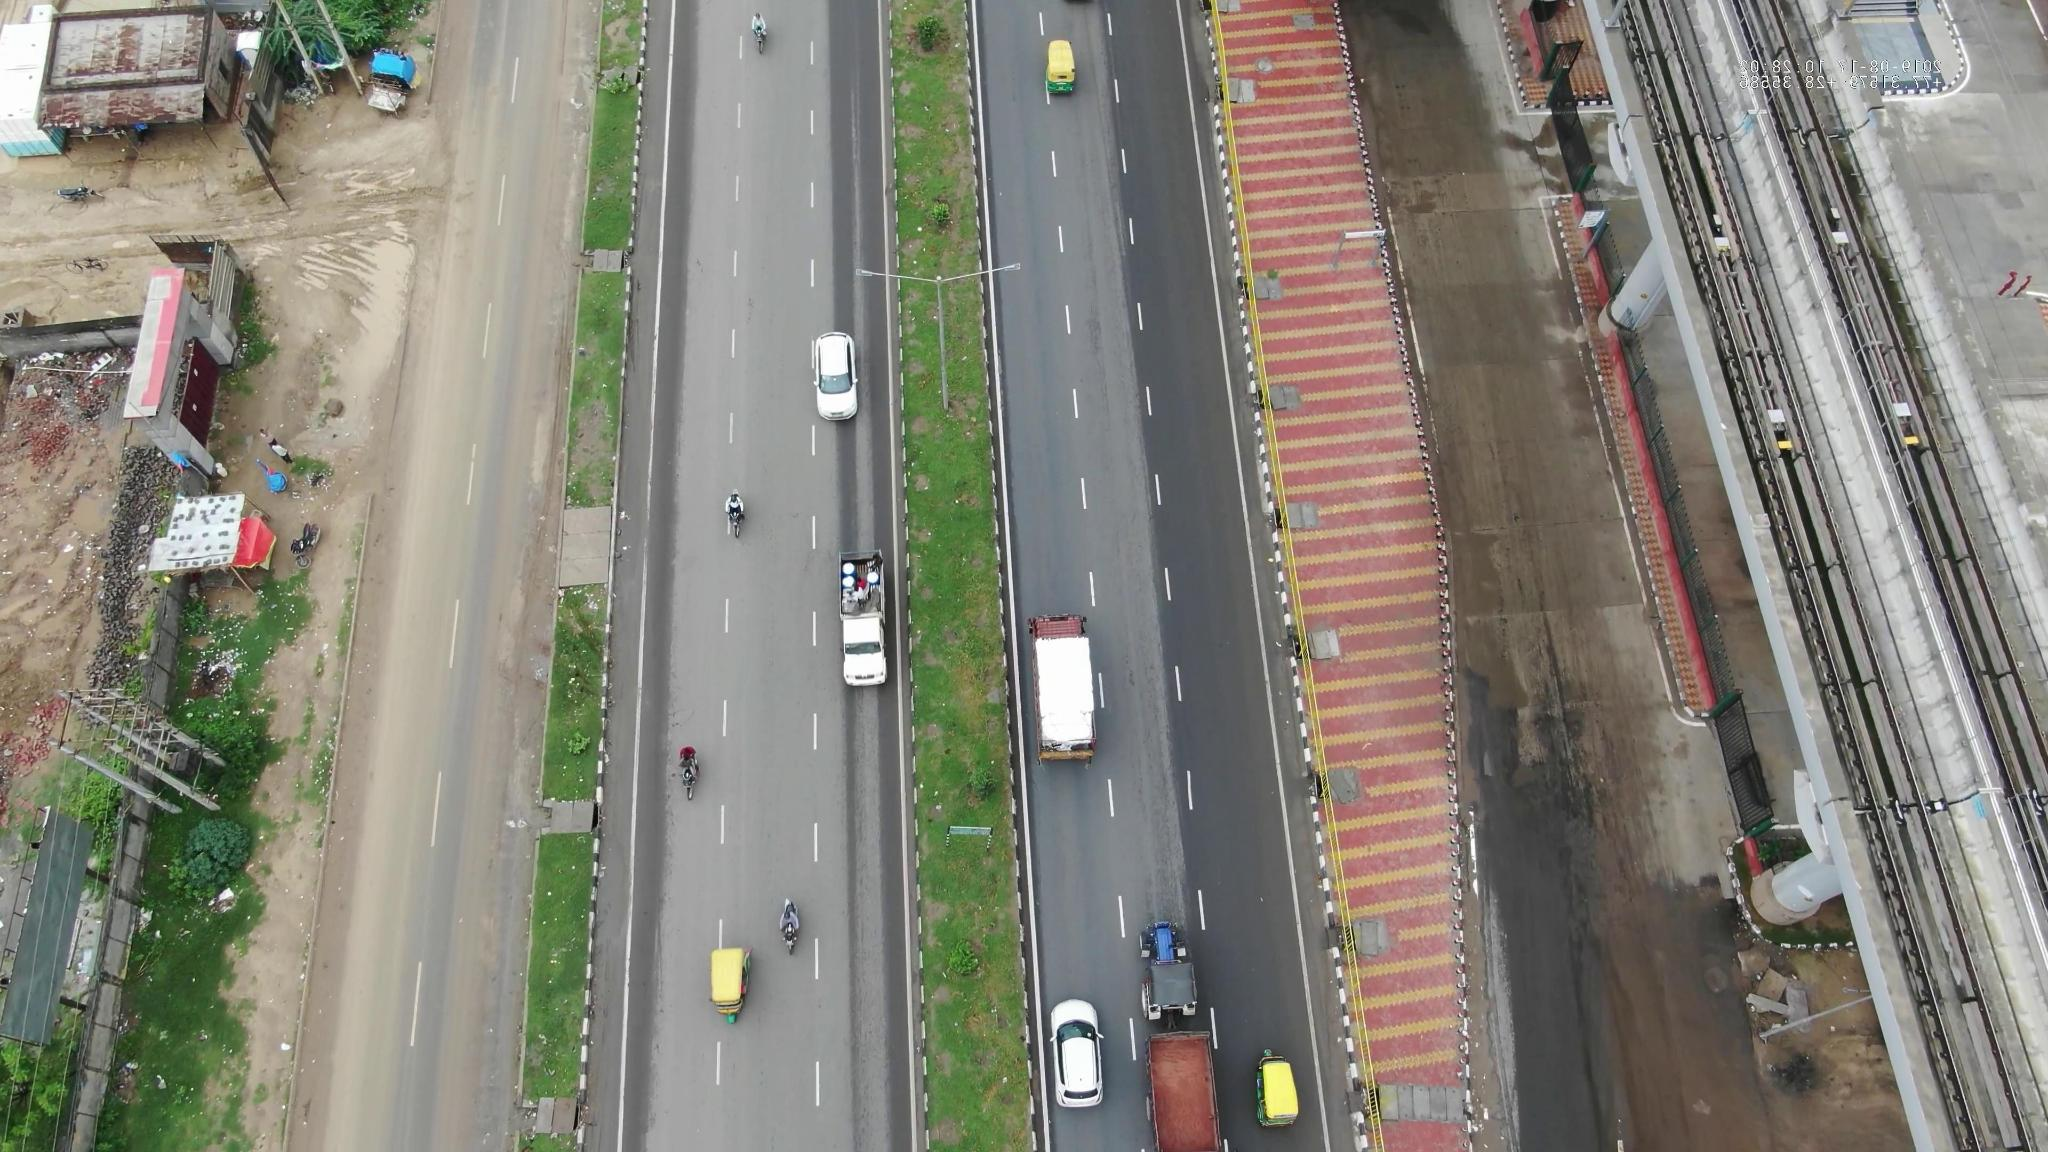Muddy_road: (376, 243, 494, 640), (314, 698, 415, 1104), (466, 392, 563, 727), (442, 775, 537, 1099)
